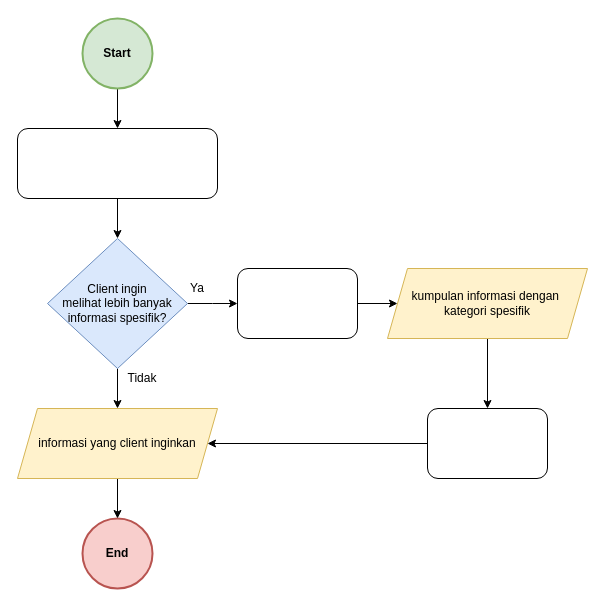
Image size: 605x606. Some labels were removed from this diagram. Here are the shapes that lost their labels. From the top down, the box of each, then its label:
(16, 128, 218, 198): Client berinteraksi dengan tampilan antarmuka landing page
(236, 268, 358, 338): Client mencari kategori informasi dan membukanya
(426, 408, 548, 478): Client mencari informasi yang diinginkan
